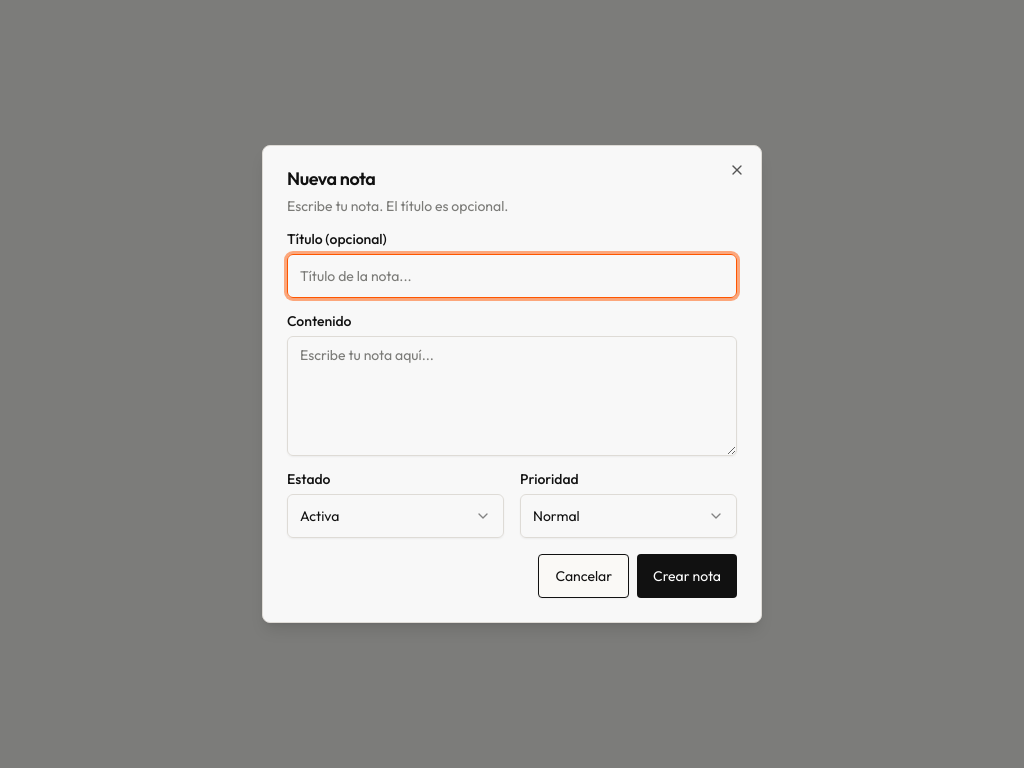
it: NoteForm › shows error when submitting with empty content
Click the button "Crear nota" at (687, 576), box [637,554,737,598]
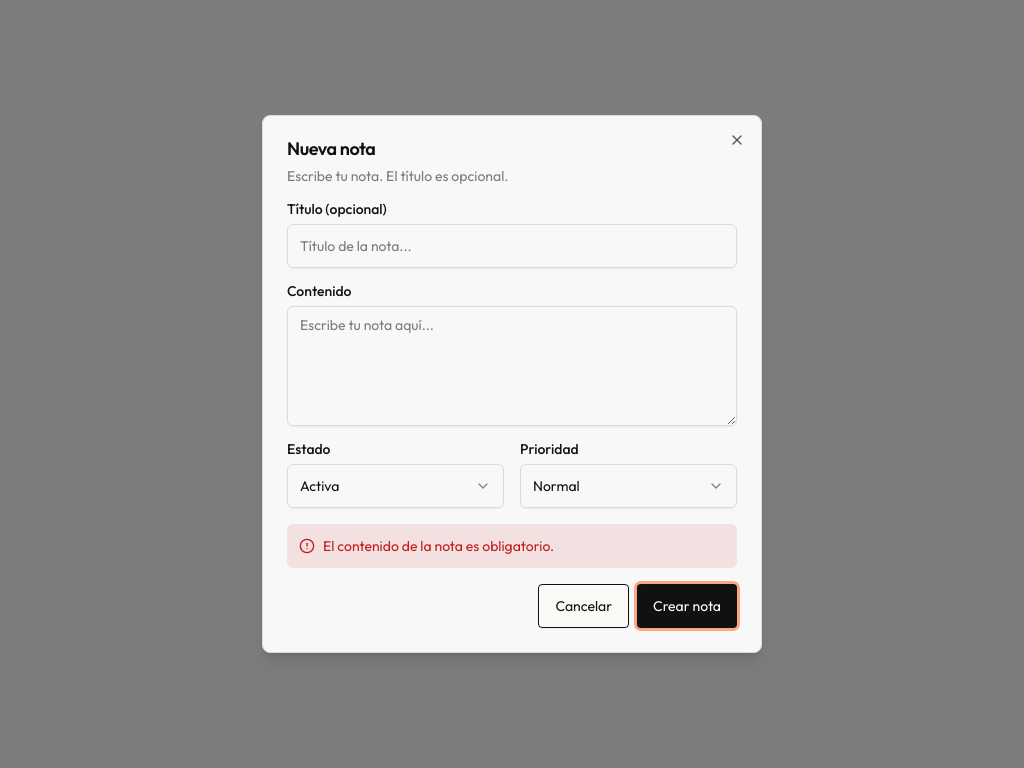
expect the text "El contenido de la nota es obligatorio." is shown: met, box [323,536,554,556]
